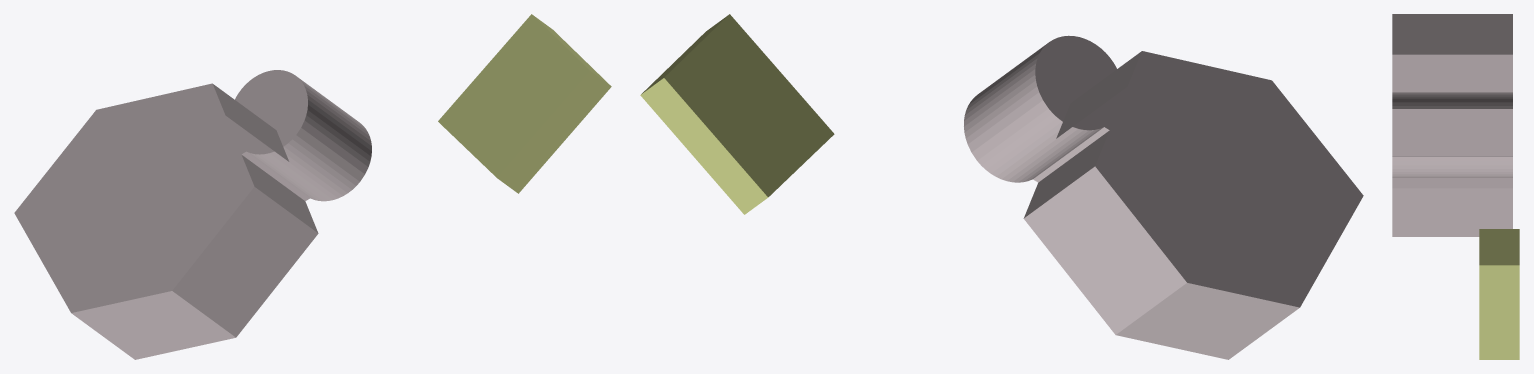
3 renders of one model, left to right at view 1: azimuth 30°, elevation 25°; view 2: azimuth 150°, elevation 25°; view 3: azimuth 270°, elevation 25°, orthographic. The views are drawn at different scales.
Parts seen in each view (by area): view 1: 0_0_1_3_1_1_1_2; view 2: 0_0_1_3_1_1_1_2; view 3: 0_0_1_3_1_1_1_2.
Boxes of the visible parts, x1,y1,x2,y2 form: 0_0_1_3_1_1_1_2: (14, 14, 611, 359); 0_0_1_3_1_1_1_2: (640, 14, 1363, 359); 0_0_1_3_1_1_1_2: (1392, 14, 1519, 359).
Bounding box in the file's own units: 94.15 × 30.98 × 19.
